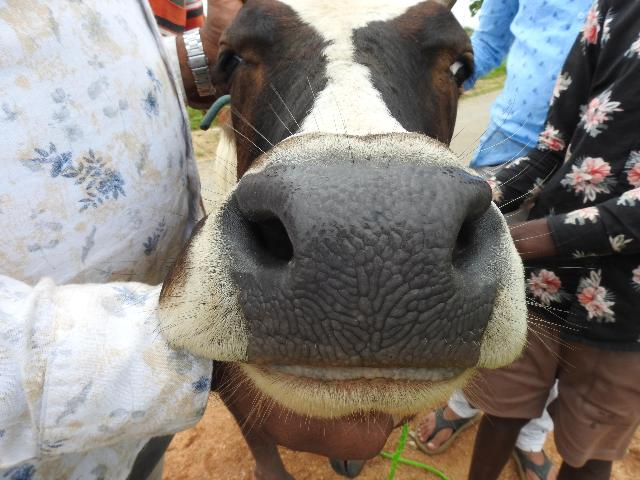Muzzle: (280, 163, 470, 368)
